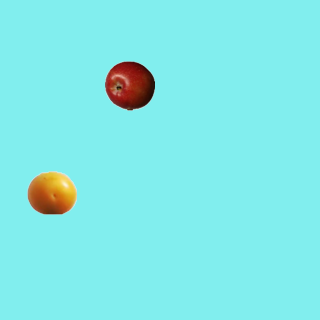Apple Braeburn: (104, 60, 154, 110)
Cherry Wax Yellow: (26, 167, 76, 217)
